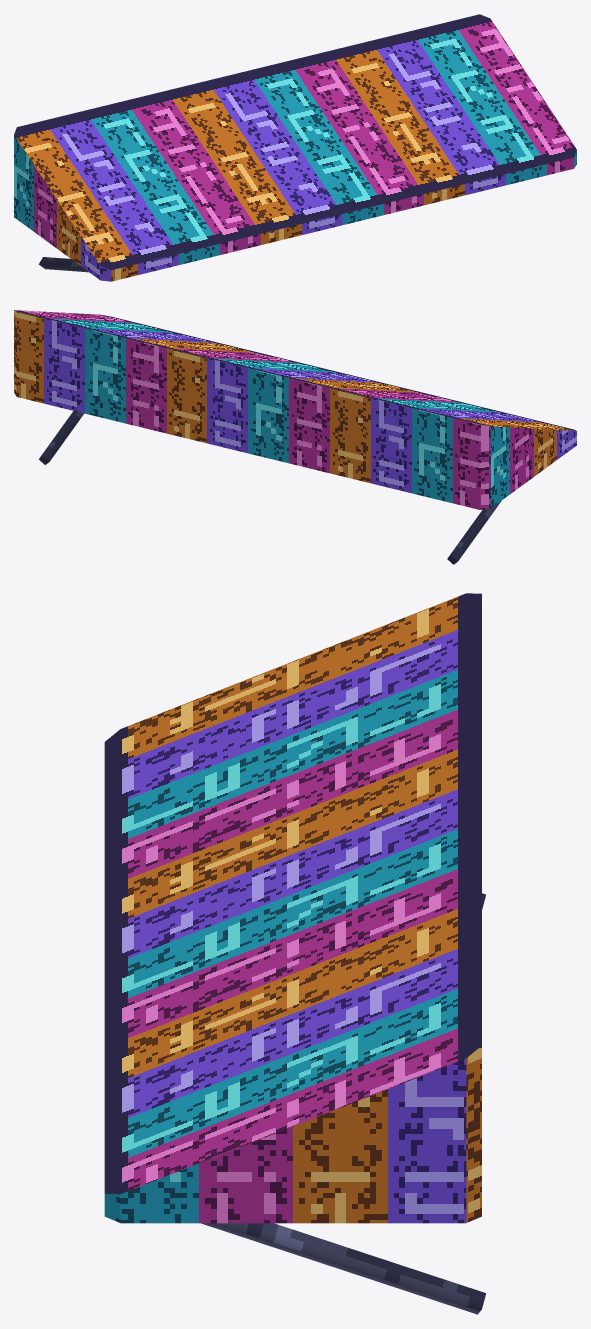
The model's file is cydress.awning.glb.
3 renders of one model, top to bottom at view 1: azimuth 30°, elevation 25°; view 2: azimuth 150°, elevation 25°; view 3: azimuth 270°, elevation 25°, orthographic. The views are drawn at different scales.
Visible parts, largest first — view 1: kit_awning; view 2: kit_awning; view 3: kit_awning.
Part boxes in pixels (x1,y1,x2,y2): kit_awning: [14, 14, 576, 281]; kit_awning: [14, 310, 576, 564]; kit_awning: [104, 593, 485, 1314].
Size of the model in its own units: 3.5 by 1.04 by 1.21.
2 materials, 2 textured.
